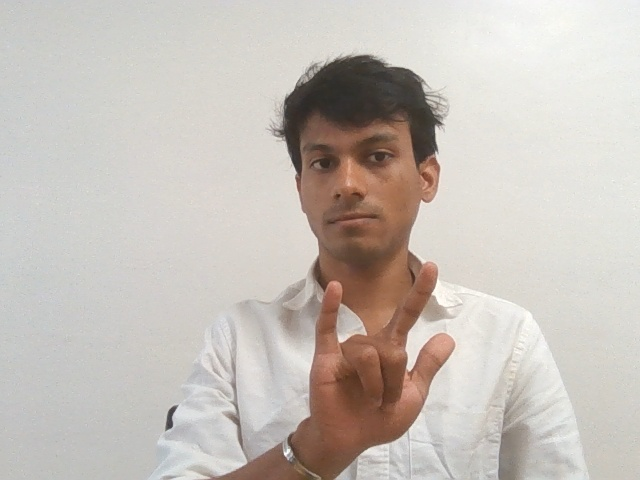ILoveYou: (300, 259, 462, 466)
